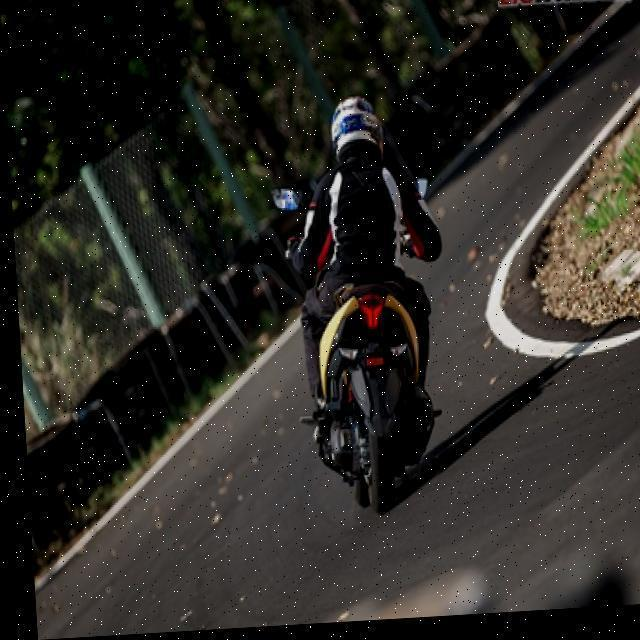Helmet: (314, 84, 394, 174)
